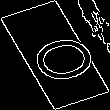O_NE: (12, 25, 98, 85)
